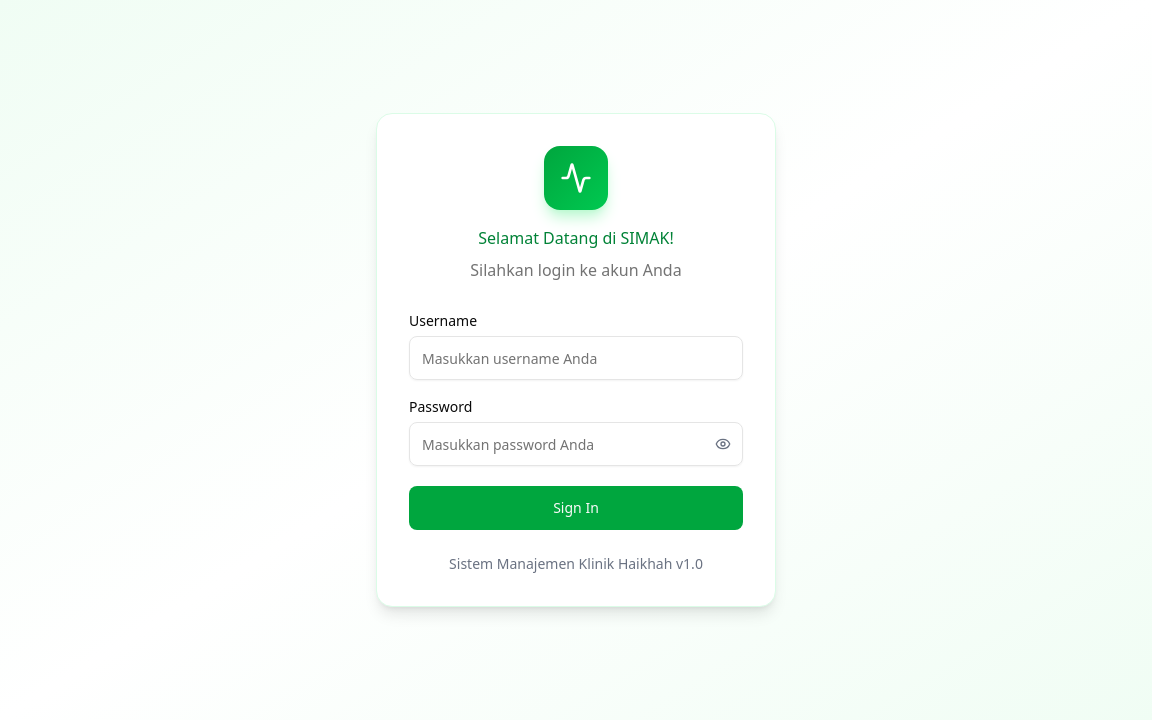
Scenario: Login › Tes login sebagai resepsionis
The width and height of the screenshot is (1152, 720).
Type "resepsionis" into the field with id "email" at (576,358), box [409,336,743,380]
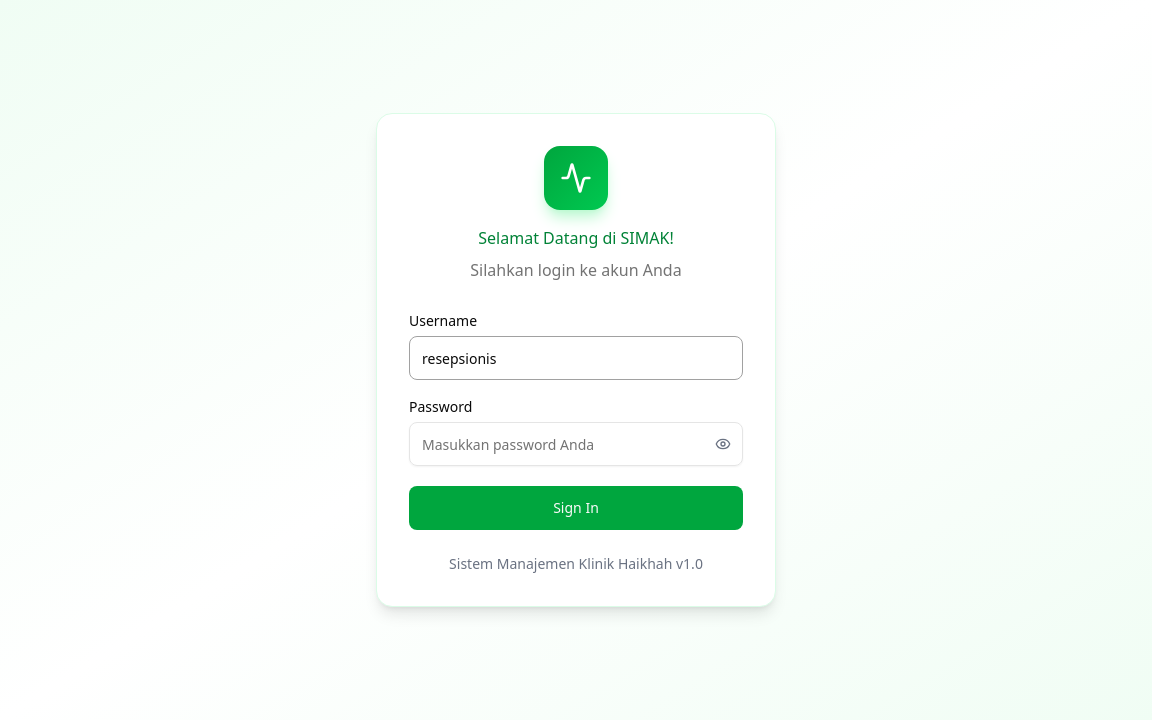
Type "password" into the password field labelled "Password" at (576,444), box [409,422,743,466]
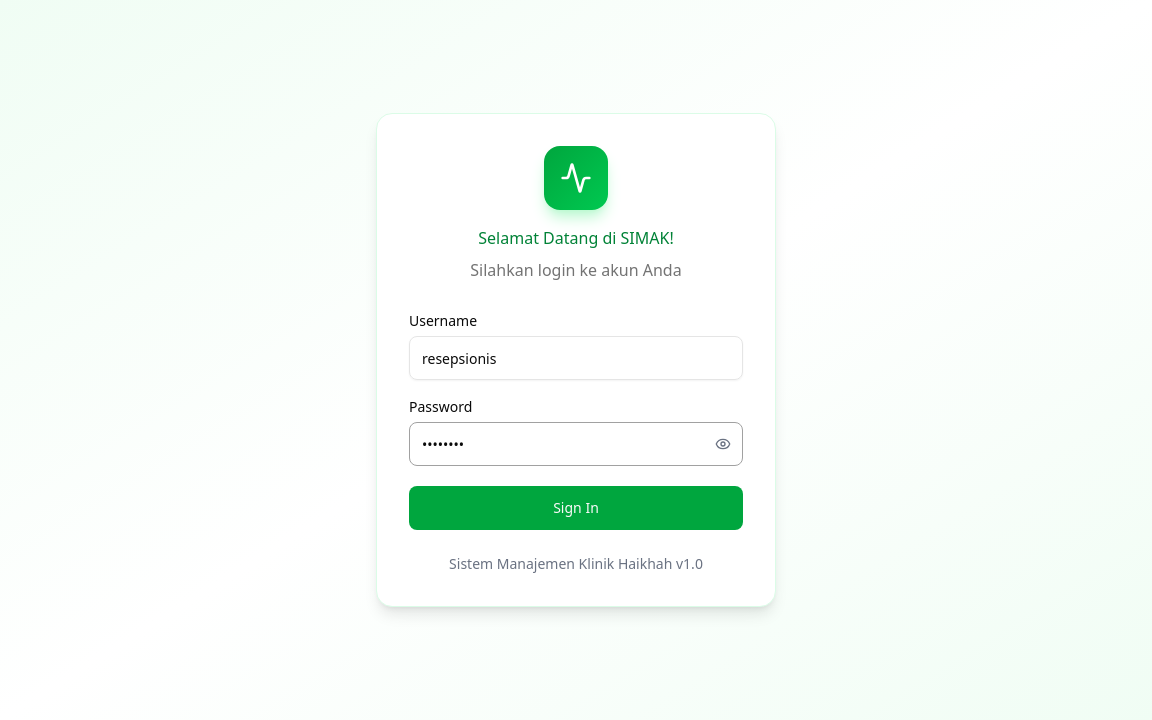
Click the button "Sign In" at (576,508), box [409,486,743,530]
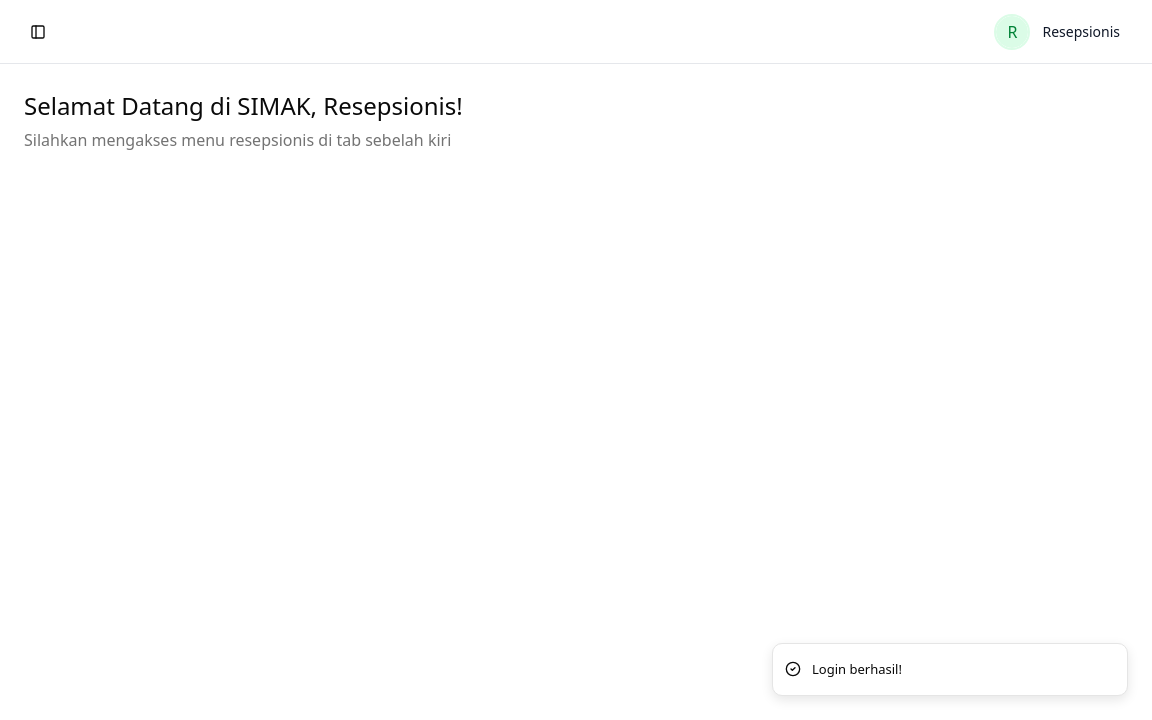
Expected: the button "R Resepsionis" is shown, [986,8,1128,56]
